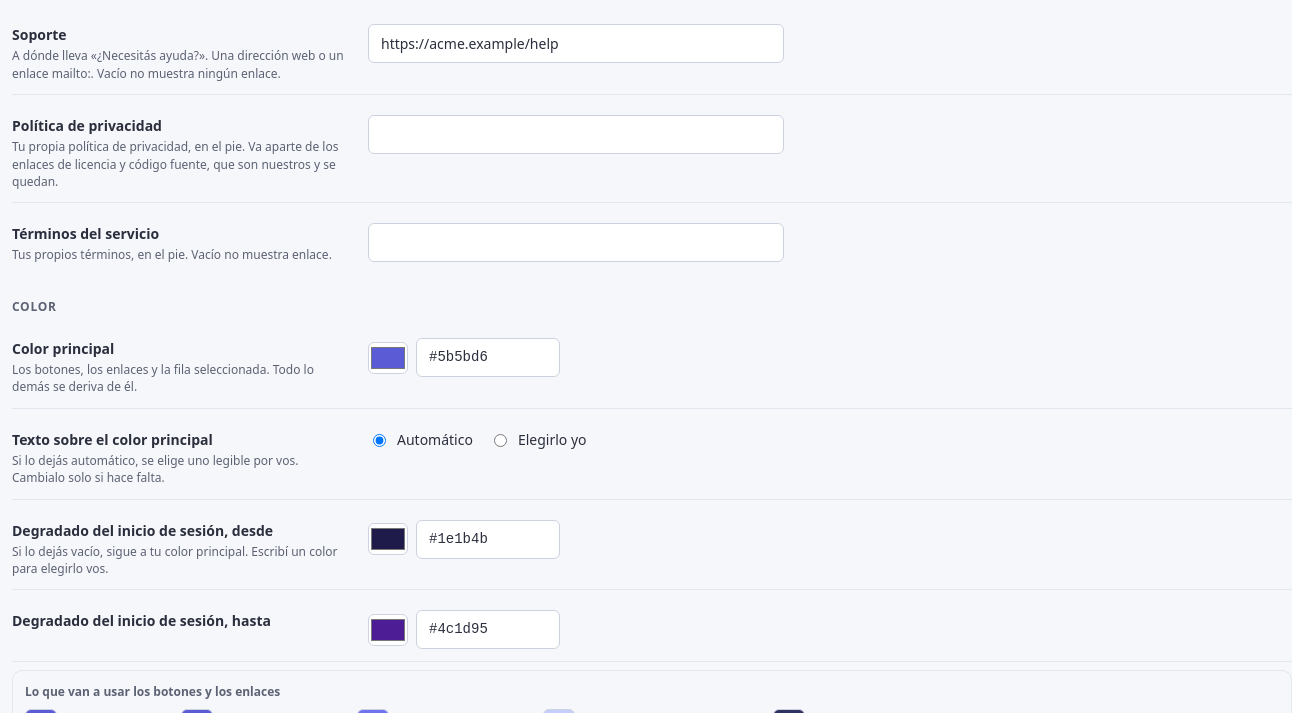
the gradient follows the primary until somebody chooses otherwise › still refuses an empty PRIMARY, which has no automatic state
(page scrolled)
Clear the field named "Color principal, en hexadecimal" at (488, 358), box [416, 338, 560, 377]
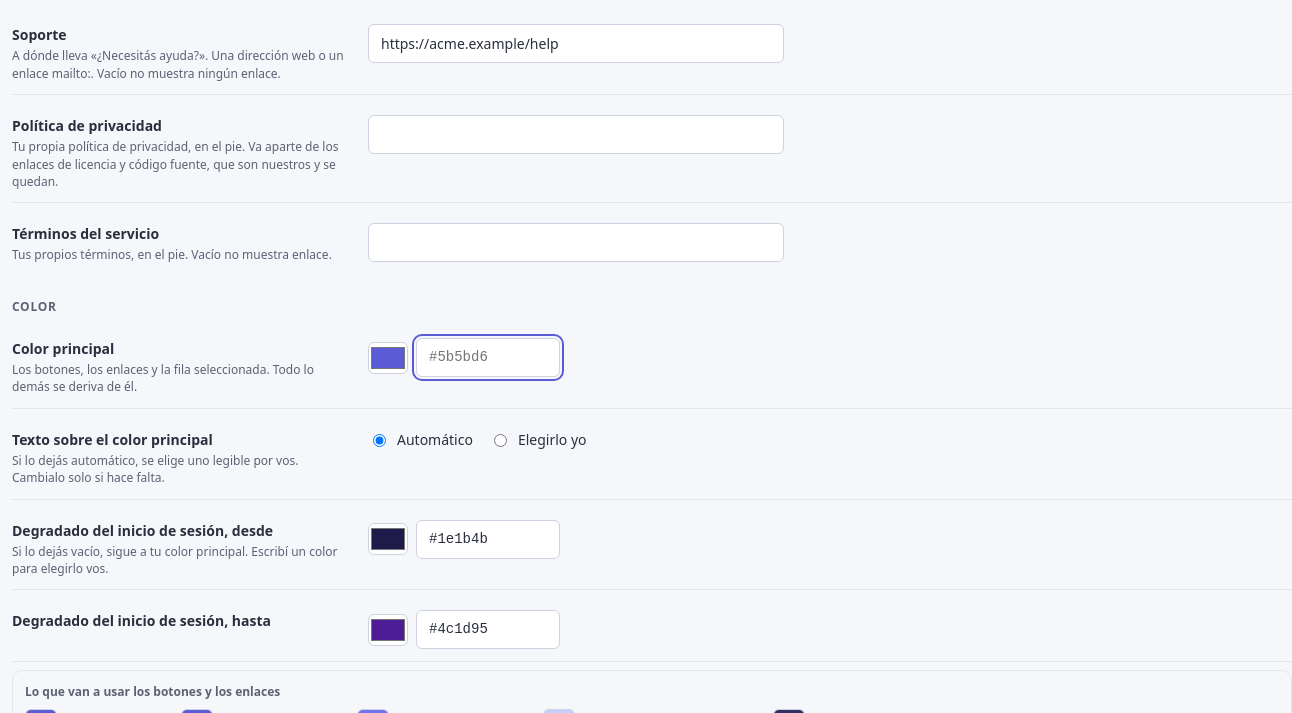
Press Tab
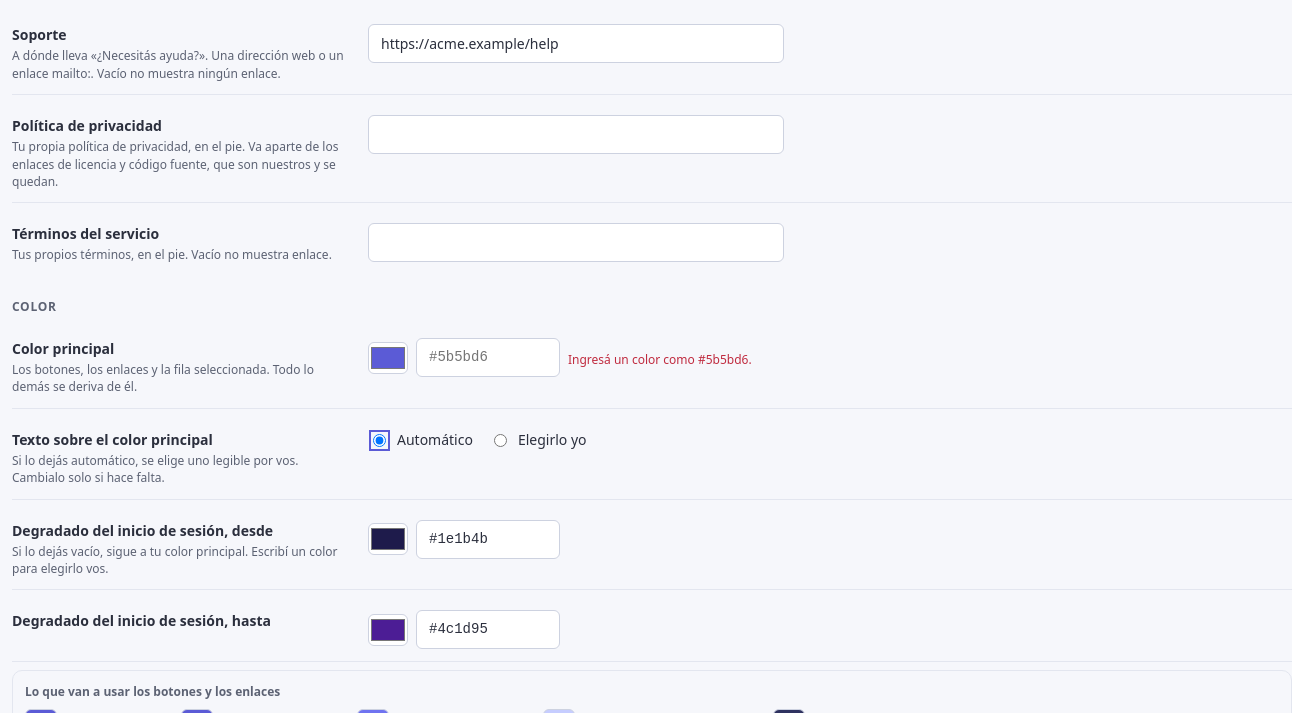
Check: the text "Ingresá un color como #5b5bd6." is shown, box [568, 351, 752, 369]
